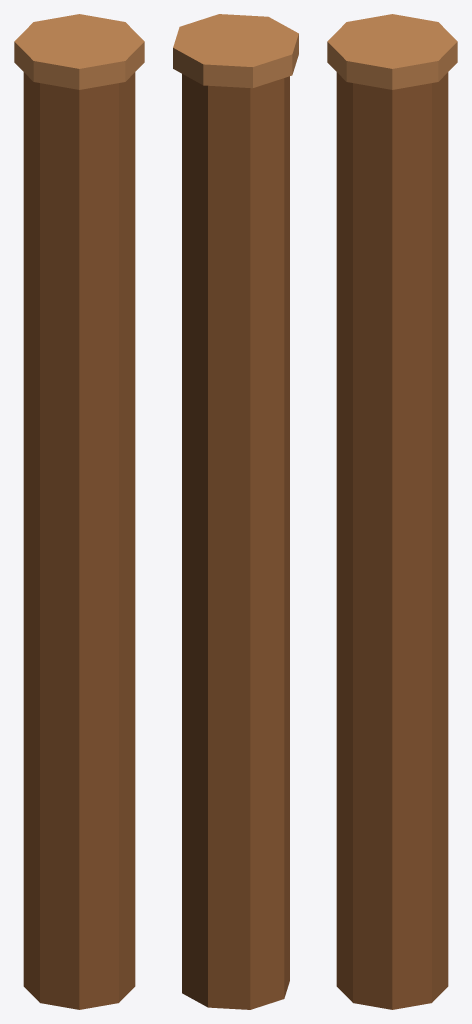
Rendered from dock_post.glb.
The picture shows the model from 3 angles, left to right: view 1: azimuth 90°, elevation 25°; view 2: azimuth 150°, elevation 25°; view 3: azimuth 270°, elevation 25°; orthographic projection.
Parts seen in each view (by area): view 1: dock_post; view 2: dock_post; view 3: dock_post.
Boxes of the visible parts, bbox=[...] form: dock_post: bbox=[14, 14, 144, 1009]; dock_post: bbox=[173, 14, 298, 1009]; dock_post: bbox=[327, 14, 457, 1009].
Bounding box in the file's own units: 0.28 × 2.25 × 0.28.
